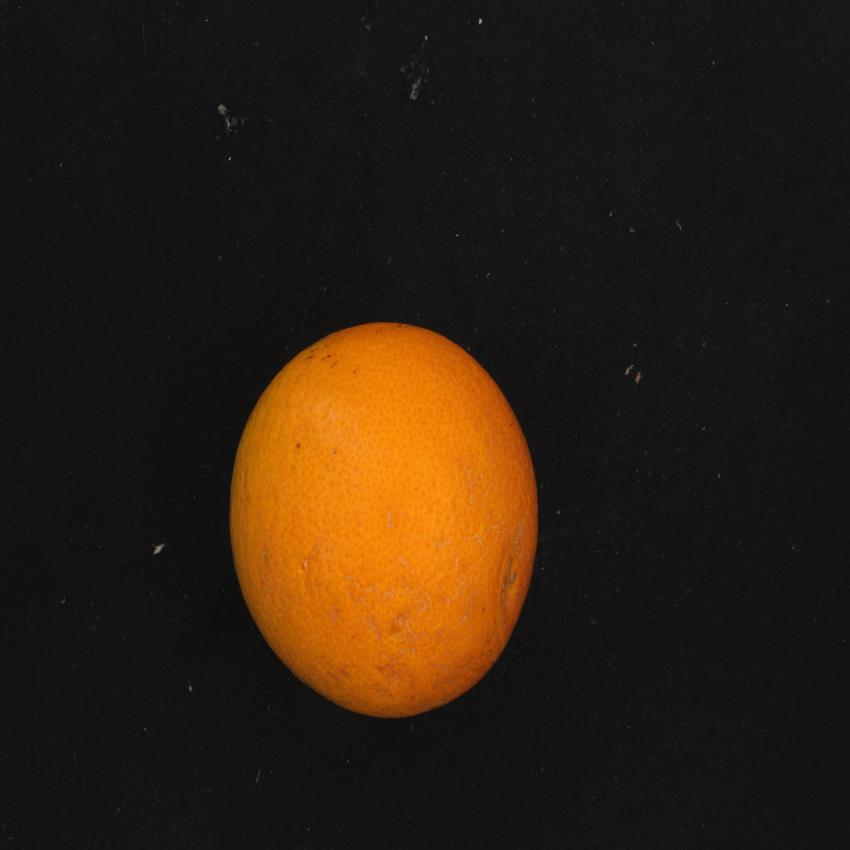Mal estado: (215, 304, 559, 736)
